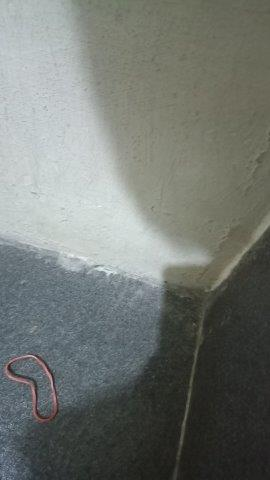karet: (4, 354, 59, 422)
